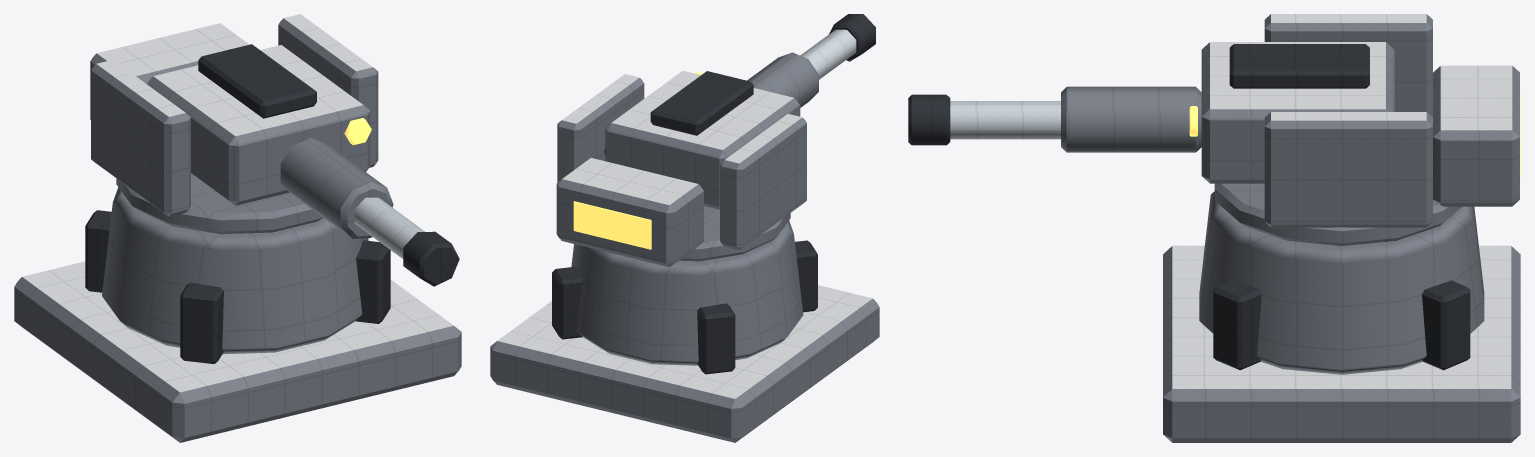
The model's file is R4W_Basic_LOD1.glb.
3 views of the same model, side by side, from view 1: azimuth 30°, elevation 25°; view 2: azimuth 150°, elevation 25°; view 3: azimuth 270°, elevation 25° (orthographic). The views are drawn at different scales.
Visible parts, largest first — view 1: R4W_Basic_LOD1; view 2: R4W_Basic_LOD1; view 3: R4W_Basic_LOD1.
Part boxes in pixels (x1,y1,x2,y2): R4W_Basic_LOD1: [14, 14, 461, 442]; R4W_Basic_LOD1: [490, 14, 879, 442]; R4W_Basic_LOD1: [908, 14, 1520, 442].
Size of the model in its own units: 0.51 by 0.494 by 0.873.
5 materials, 4 textured.
